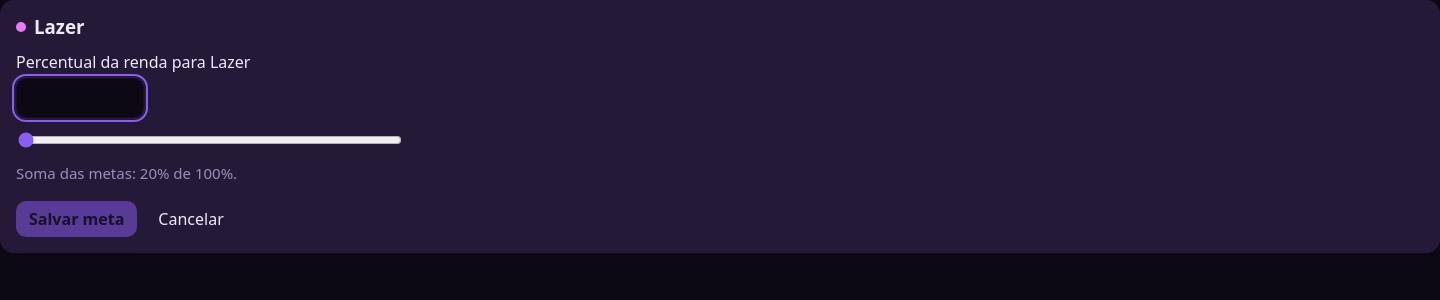
Test case: CartaoDeMeta › o formulário mostra quanto o percentual vale no mês e a soma das metas
Type "30" into the field labelled "Percentual da renda para Lazer". click: (80, 98)
box: left=16, top=78, right=144, bottom=118
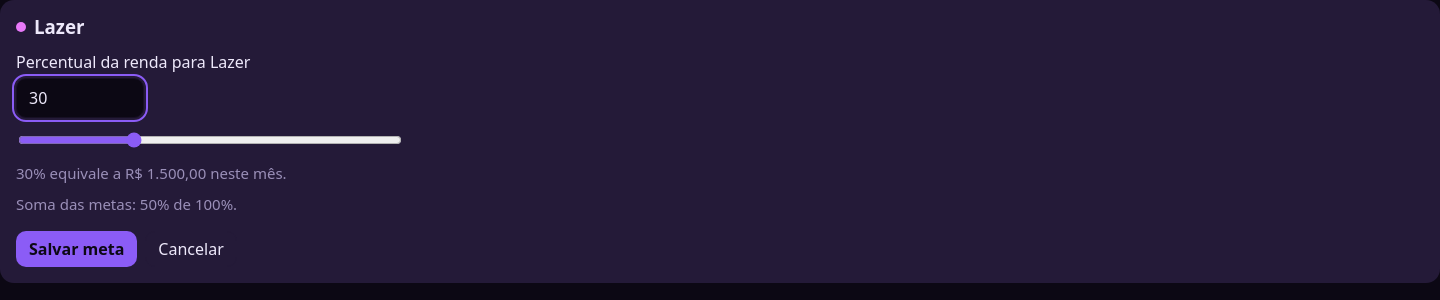
Result: the text "Soma das metas: 50% de 100%." is shown at left=16, top=194, right=237, bottom=214
Result: the button "Salvar meta" is enabled at left=16, top=232, right=137, bottom=268
